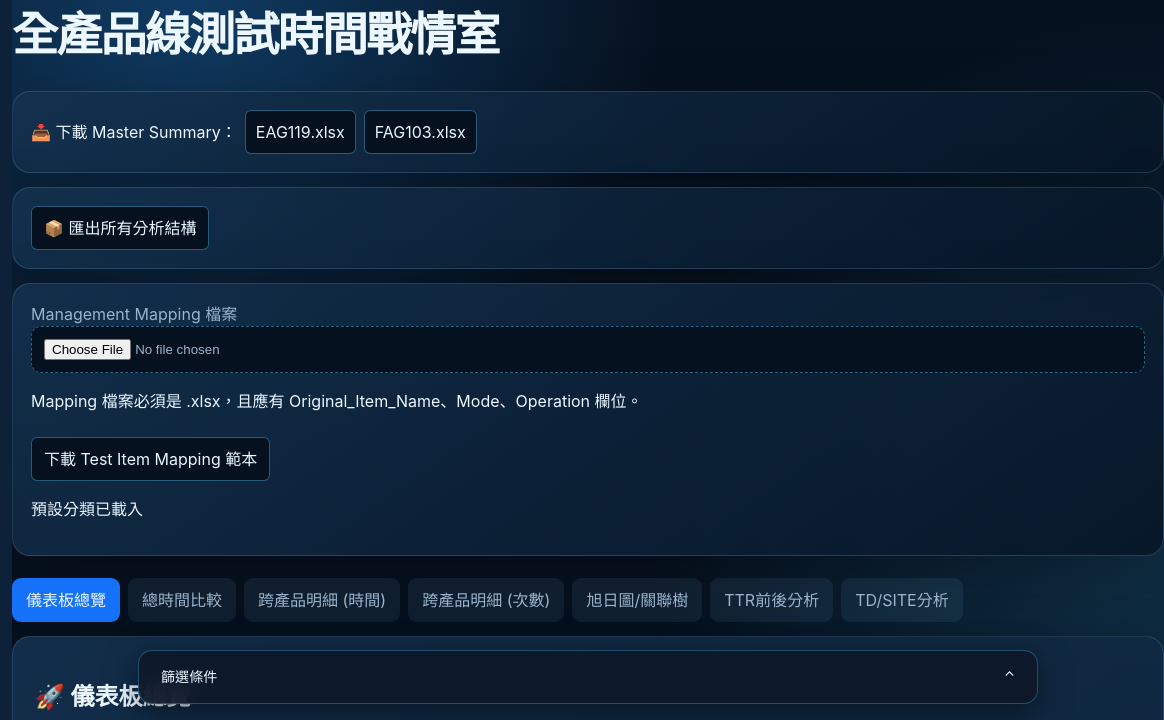
DashboardPage › keeps the floating filters collapsed until opened
Click the button "篩選條件 ⌃": (189, 677) 153,661 -> 1023,693
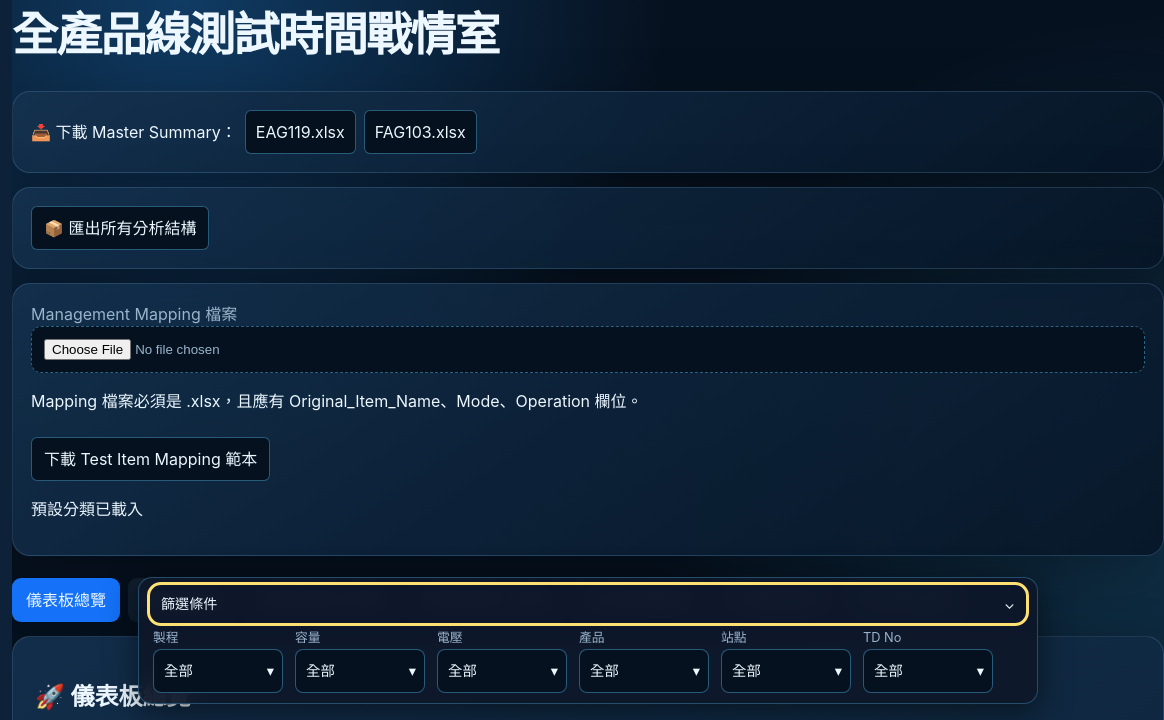
Expected: the button "篩選條件 ⌄" is expanded, 153,588 -> 1023,620
